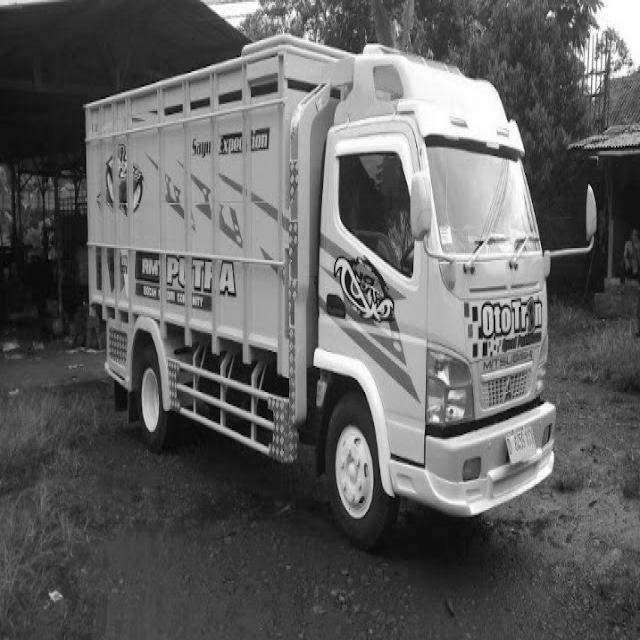truck: (280, 26, 597, 544)
